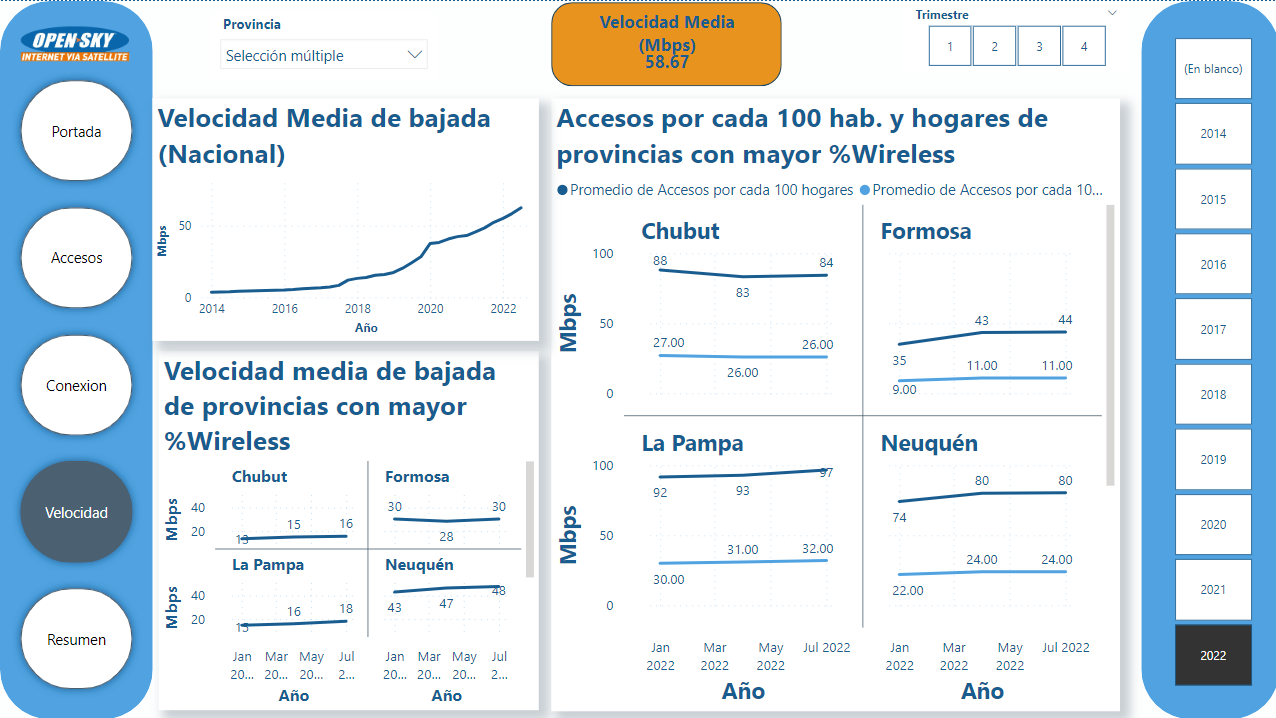

Layout of this report page (visuals, bound fields, positions):
{"tool":"powerbi","page":{"name":"Velocidad","canvas":[1280,720],"ordinal":3},"visuals":[{"type":"shape","box":[0,0,152.9,718.6],"z":0},{"type":"image","box":[0,17.1,152.9,54.3],"z":1000},{"type":"pageNavigator","box":[12.9,71.4,128.6,625.7],"z":2000},{"type":"shape","box":[1141.4,0,138.6,718.6],"z":3000},{"type":"slicer","fields":{"Values":["TablaCalendario.Año"]},"box":[1148.6,30,127.1,661.4],"z":4000},{"type":"slicer","fields":{"Values":["TablaCalendario.Trimestre"]},"box":[902.9,0,227.1,71.4],"z":5000},{"type":"lineChart","title":"Velocidad media de bajada de provincias con mayor %Wireless","fields":{"Category":["TablaCalendario.Date"],"Rows":["provincias.iso_nombre"],"Y":["Avg(penetracion_regional.Mbps (Media de bajada))"]},"box":[159.2,349.9,380.1,359.5],"z":6000},{"type":"shape","box":[551,1.5,230,84.3],"z":7000},{"type":"card","title":"Velocidad Media (Mbps)","fields":{"Values":["Avg(penetracion_nacional.Mbps (Media de bajada))"]},"box":[579.6,8.6,174.3,67.1],"z":8000},{"type":"lineChart","title":"Accesos por cada 100 hab. y hogares de provincias con mayor %Wireless","fields":{"Category":["TablaCalendario.Date"],"Rows":["provincias.iso_nombre"],"Y":["Avg(penetracion_regional.Accesos por cada 100 hogares)","Avg(penetracion_regional.Accesos por cada 100 hab)"]},"box":[551.3,97.8,568.4,612.4],"z":9000},{"type":"lineChart","title":"Velocidad Media de bajada (Nacional)","fields":{"Category":["TablaCalendario.Date"],"Y":["Avg(penetracion_nacional.Mbps (Media de bajada))"]},"box":[152.8,97.8,386.3,242],"z":10000},{"type":"slicer","fields":{"Values":["provincias.iso_nombre"]},"box":[209.9,8.2,227.8,71.4],"z":11000}]}

Visuals, with their boxes on the page's 1280x720 design canvas (x1, y1, x2, y2). These are canvas units, not pixel positions in the 1276x718 screenshot, which may show the page scaled, cropped or inside an application window:
shape: [x1=0, y1=0, x2=153, y2=719]
image: [x1=0, y1=17, x2=153, y2=71]
pageNavigator: [x1=13, y1=71, x2=142, y2=697]
shape: [x1=1141, y1=0, x2=1280, y2=719]
slicer - TablaCalendario.Año: [x1=1149, y1=30, x2=1276, y2=691]
slicer - TablaCalendario.Trimestre: [x1=903, y1=0, x2=1130, y2=71]
"Velocidad media de bajada de provincias con mayor %Wireless" lineChart: [x1=159, y1=350, x2=539, y2=709]
shape: [x1=551, y1=2, x2=781, y2=86]
"Velocidad Media (Mbps)" card: [x1=580, y1=9, x2=754, y2=76]
"Accesos por cada 100 hab. y hogares de provincias con mayor %Wireless" lineChart: [x1=551, y1=98, x2=1120, y2=710]
"Velocidad Media de bajada (Nacional)" lineChart: [x1=153, y1=98, x2=539, y2=340]
slicer - provincias.iso_nombre: [x1=210, y1=8, x2=438, y2=80]
